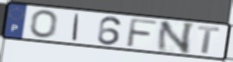6: (97, 15, 123, 46)
F: (125, 17, 160, 49)
I: (71, 12, 82, 42)
N: (155, 21, 196, 55)
O: (29, 9, 59, 40)
T: (197, 26, 222, 55)
